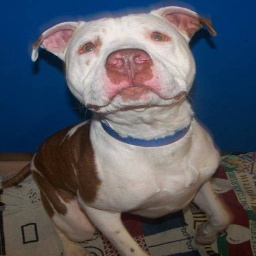dog: (11, 12, 233, 256)
